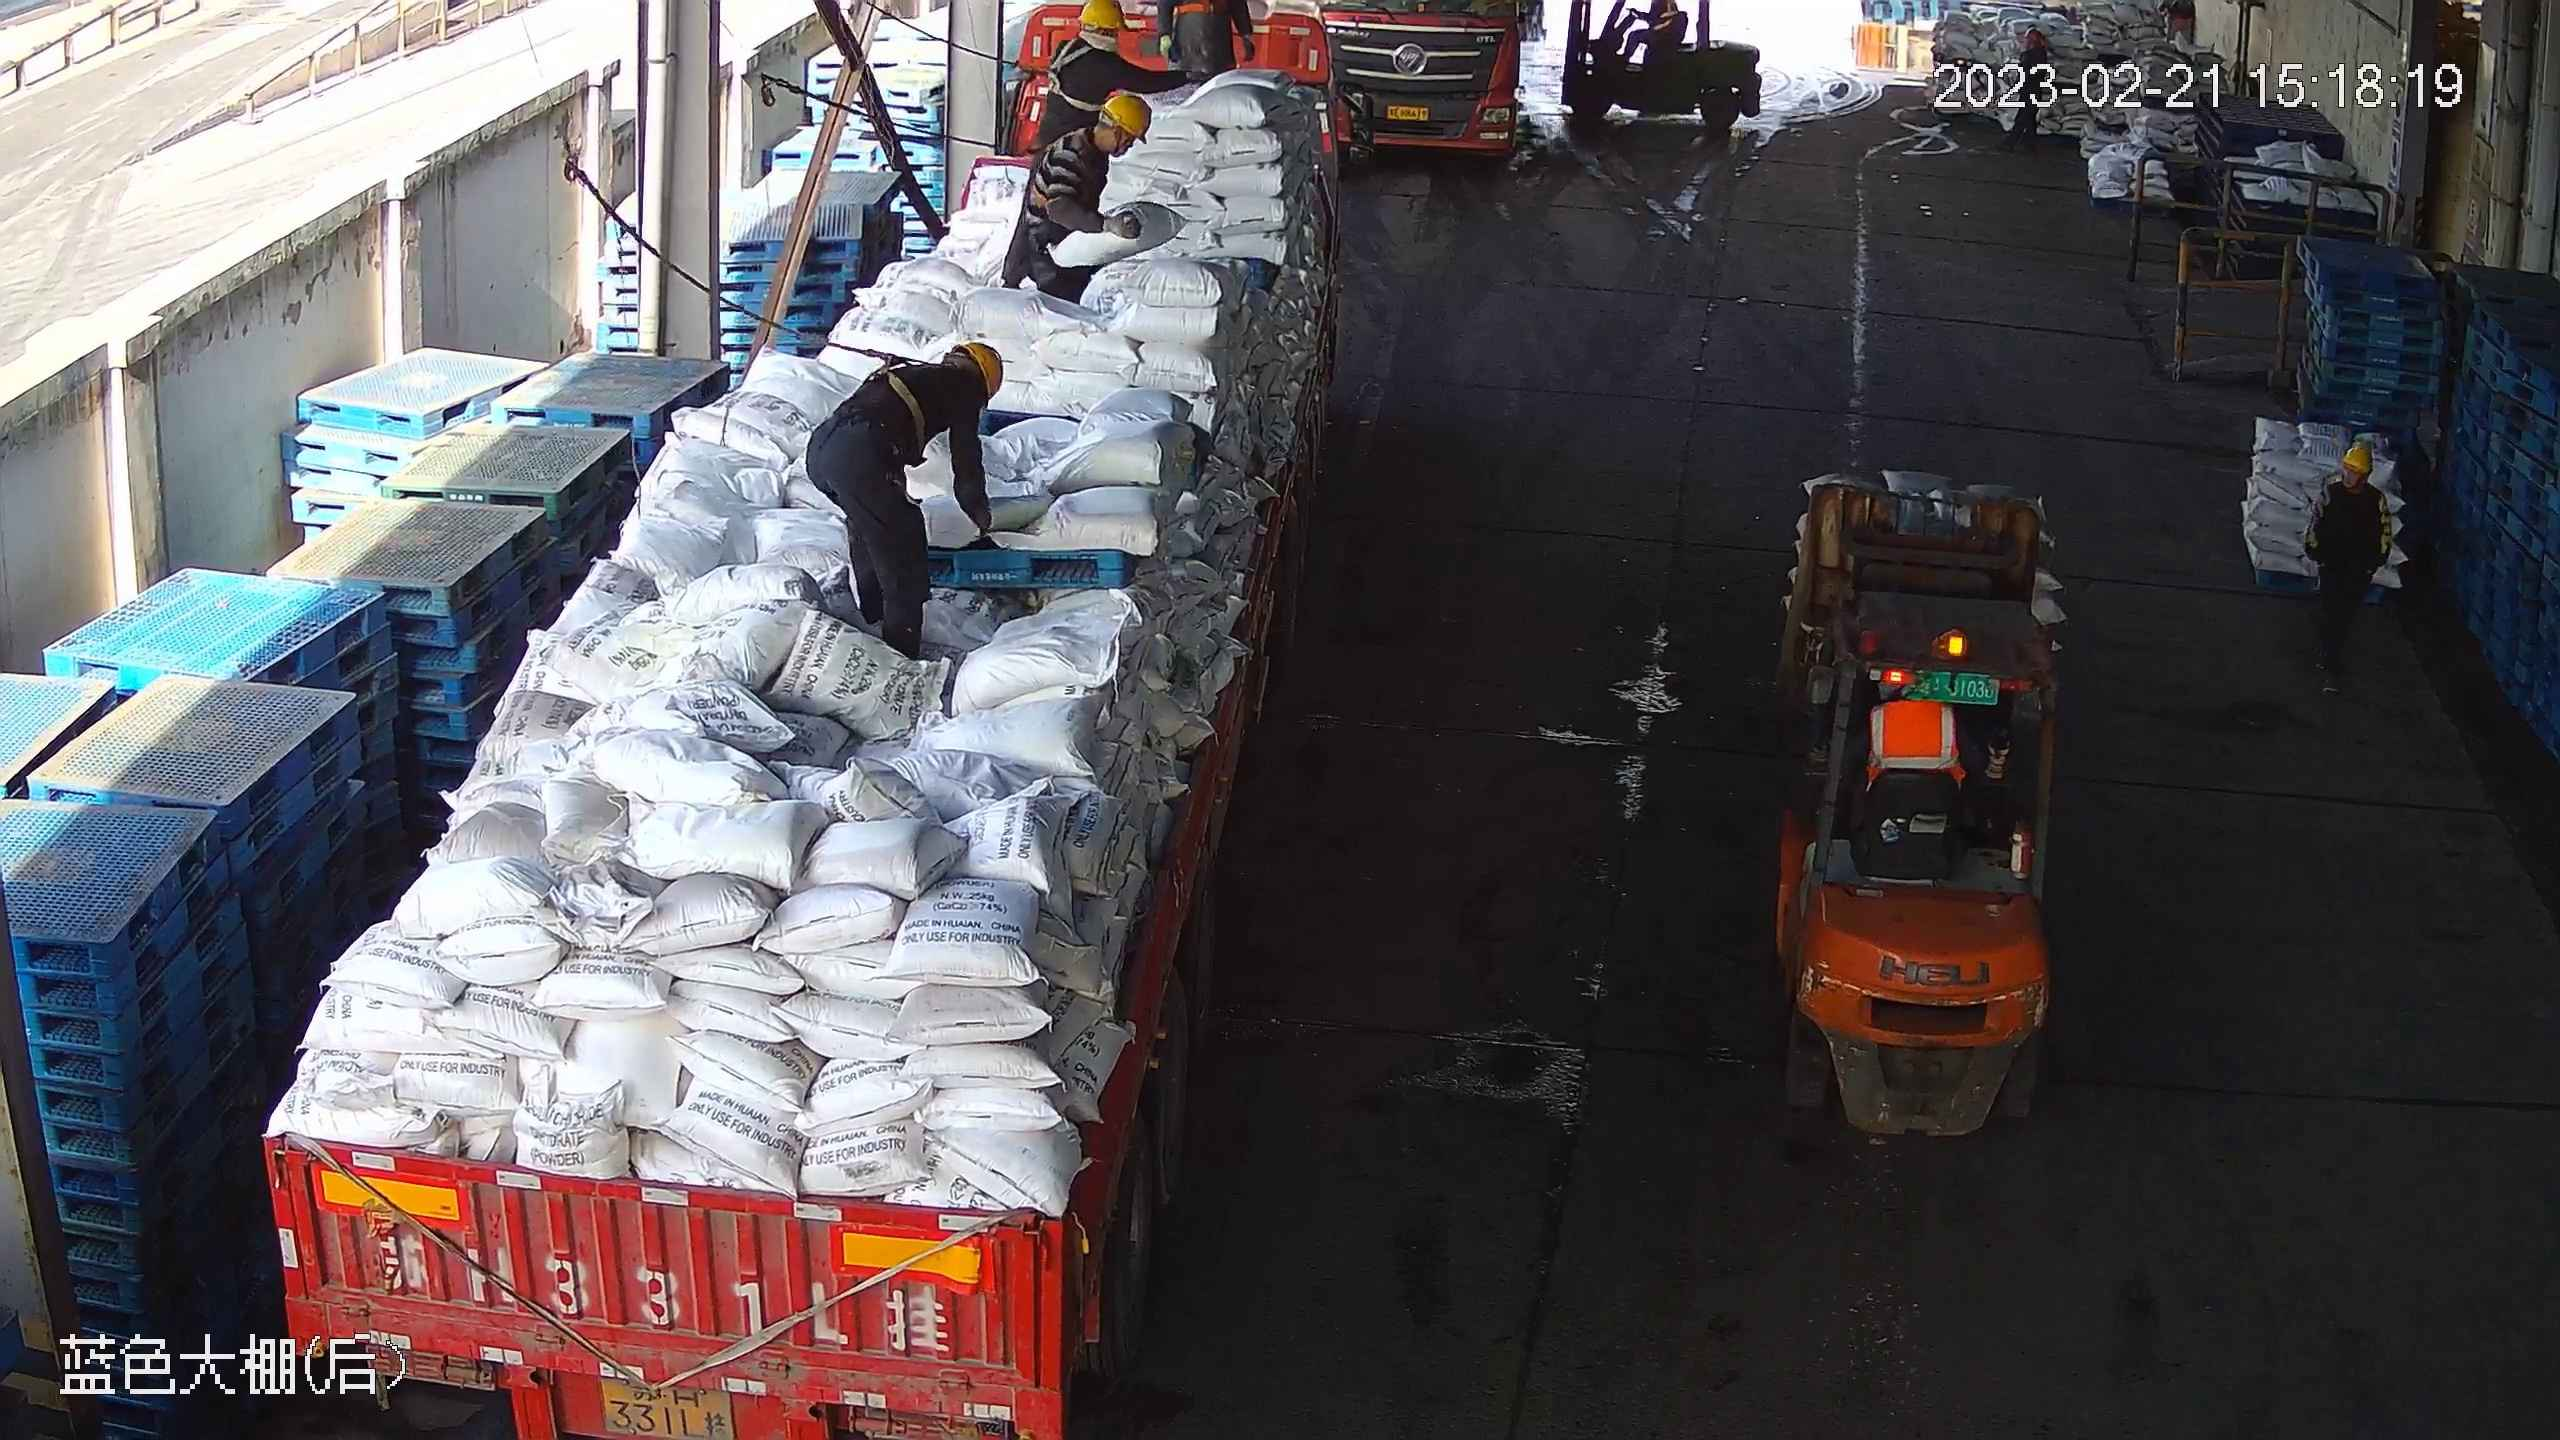belt: (864, 345, 933, 430), (1047, 32, 1109, 113)
head: (1048, 1, 1145, 99), (2303, 443, 2391, 518), (2013, 28, 2047, 85)
helmet: (952, 344, 1002, 392), (1107, 92, 1148, 142), (1074, 2, 1122, 32), (2345, 447, 2374, 471), (2020, 29, 2043, 40)
people: (803, 345, 1000, 659), (1021, 97, 1153, 302), (2305, 447, 2388, 706), (2011, 25, 2051, 144)
truck: (253, 13, 1343, 1440), (1328, 1, 1547, 170)
